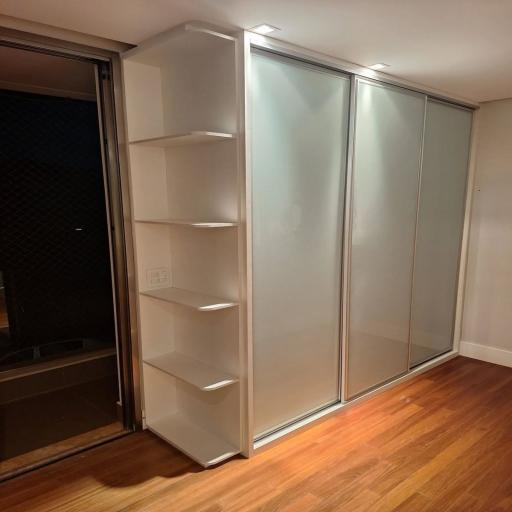car: (111, 12, 493, 473)
corridor: (0, 91, 114, 357)
elevator: (246, 45, 478, 448)
